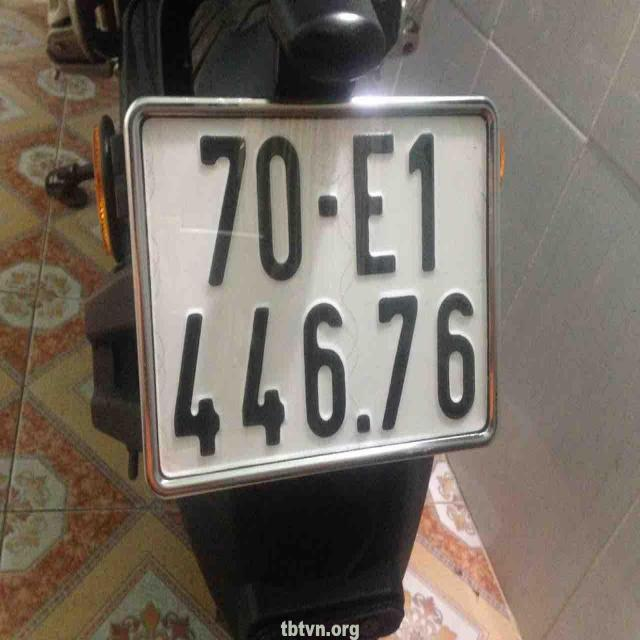0: (252, 130, 306, 285)
1: (404, 128, 444, 274)
4: (168, 307, 224, 460), (237, 300, 289, 449)
6: (297, 298, 349, 440), (430, 287, 478, 423)
7: (194, 127, 248, 289), (372, 291, 420, 435)
E: (348, 125, 400, 276)
